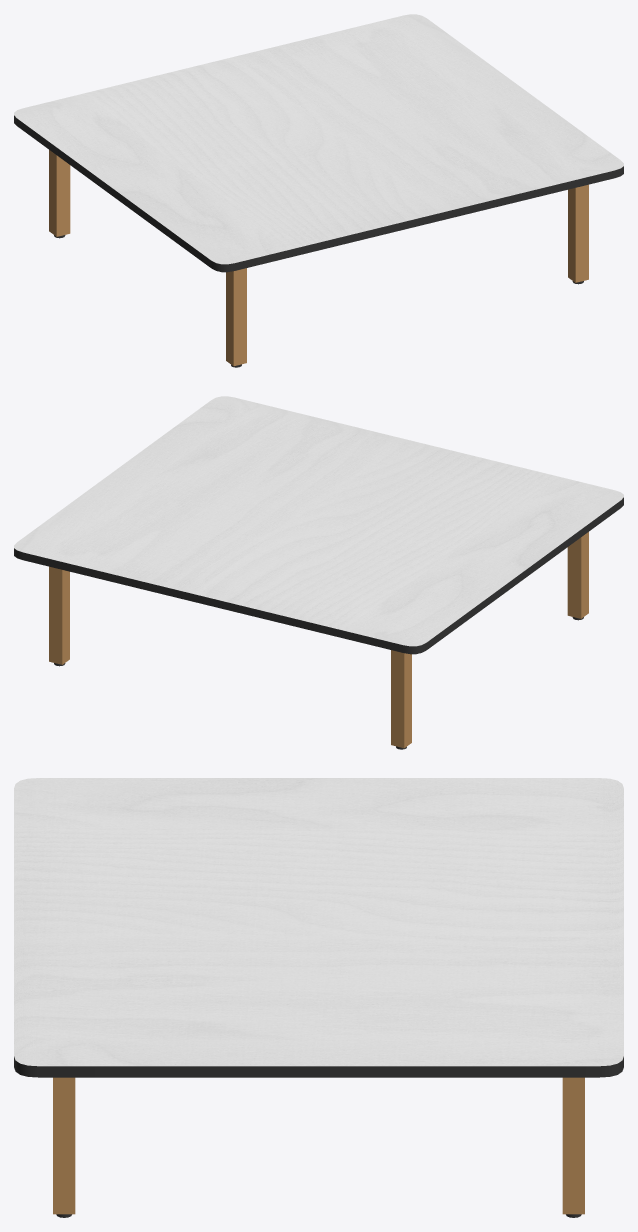
Rendered from Mesa.FBX.
3 views of the same model, one above another, from view 1: azimuth 30°, elevation 25°; view 2: azimuth 150°, elevation 25°; view 3: azimuth 270°, elevation 25° (orthographic). The views are drawn at different scales.
Visible parts, largest first — view 1: Mesa; view 2: Mesa; view 3: Mesa.
Boxes of the visible parts, x1=… form: Mesa: x1=14, y1=14, x2=623, y2=367; Mesa: x1=14, y1=396, x2=623, y2=749; Mesa: x1=14, y1=778, x2=623, y2=1217.
Bounding box in the file's own units: 384 × 343 × 107.
